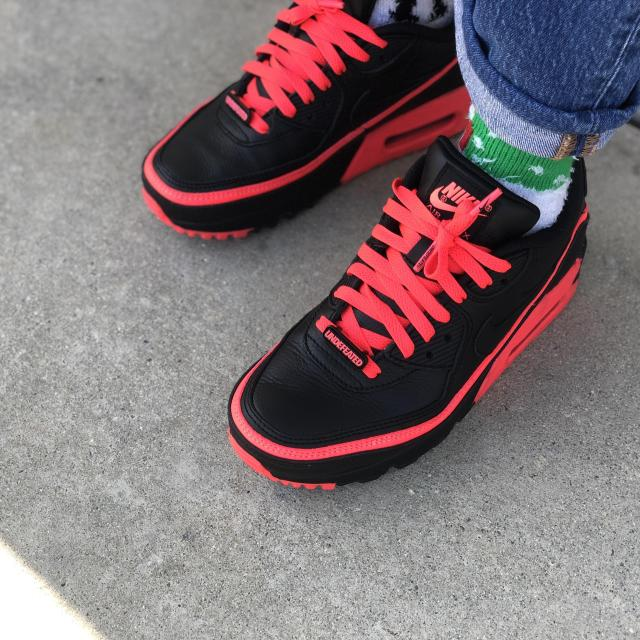shoe: (228, 137, 591, 492), (141, 0, 473, 241)
